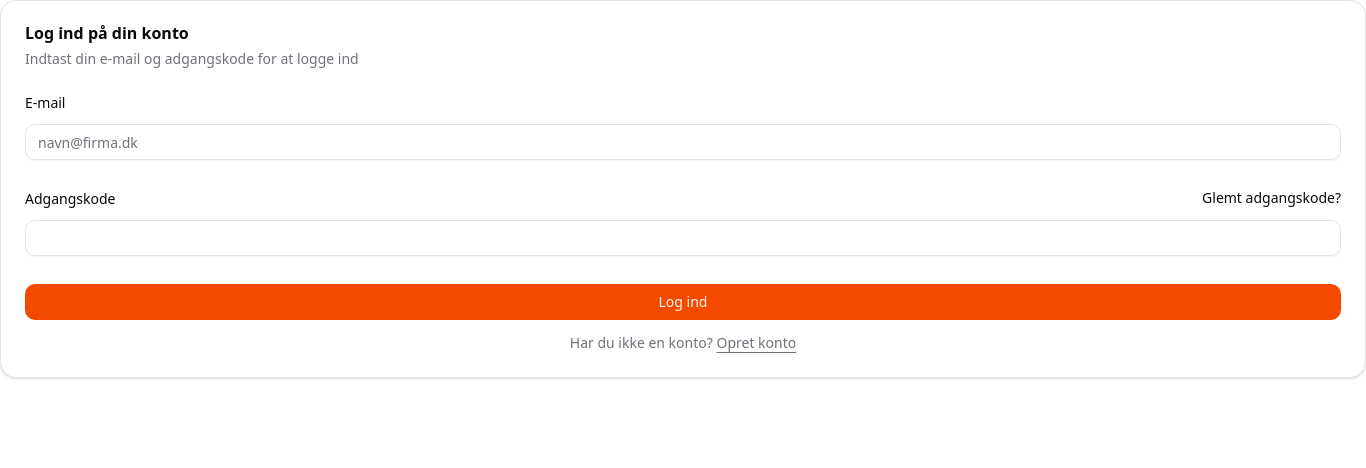
Test case: LoginForm › displays error message on failed login
Type "test@example.com" into the field labelled "E-mail" at point(683, 142), box [25,124,1341,160]
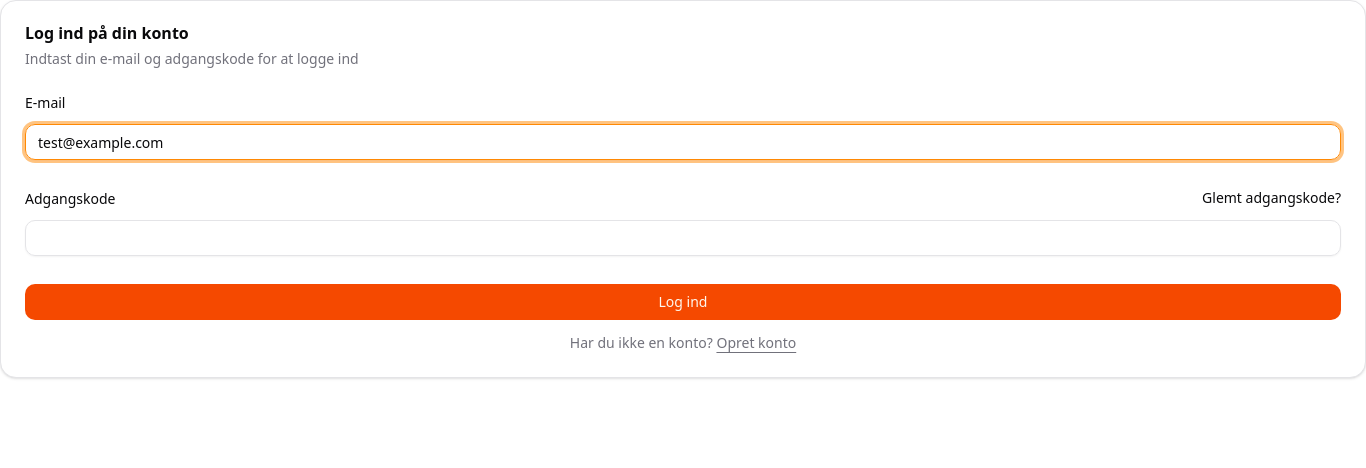
Type "wrongpassword" into the password field labelled "Adgangskode" at point(683, 238), box [25,220,1341,256]
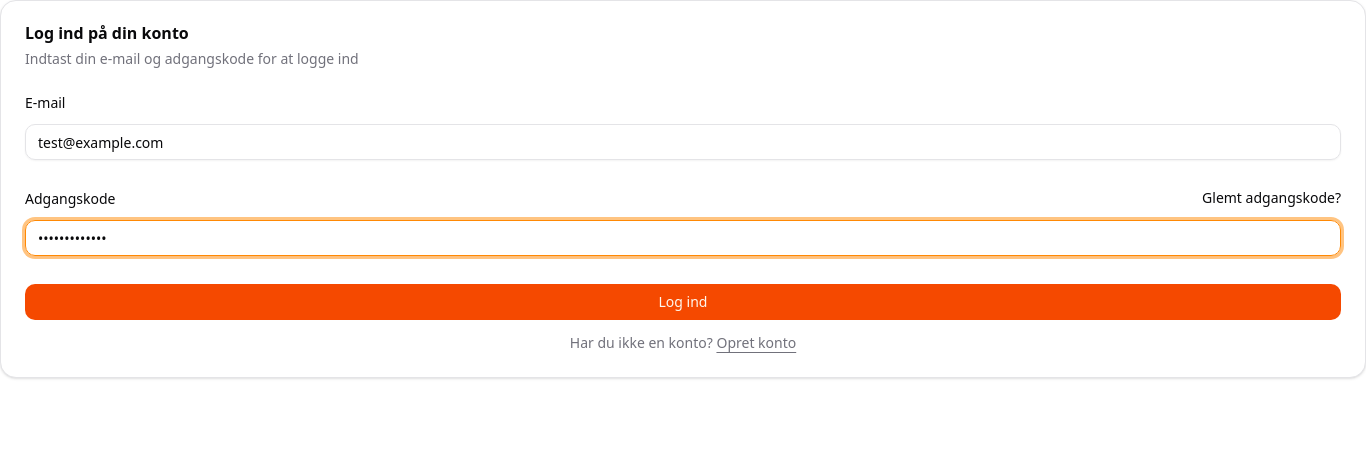
Click the button "Log ind" at point(683, 302), box [25,284,1341,320]
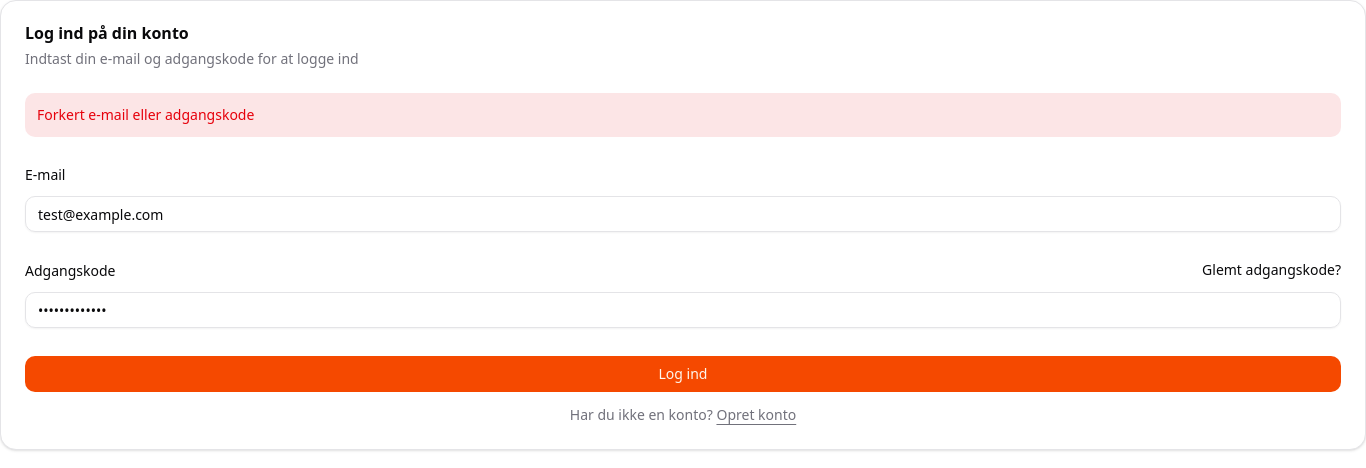
Expected: the text "Forkert e-mail eller adgangskode" is shown, [25,93,1341,137]
